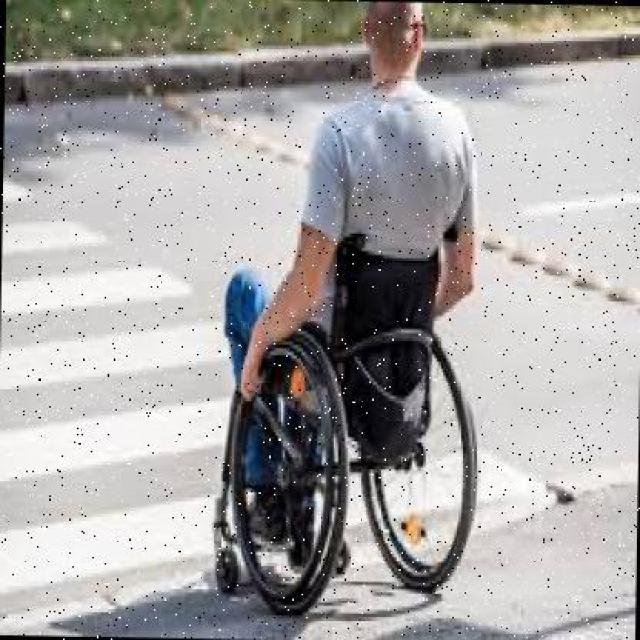obstacle: (210, 1, 482, 614)
